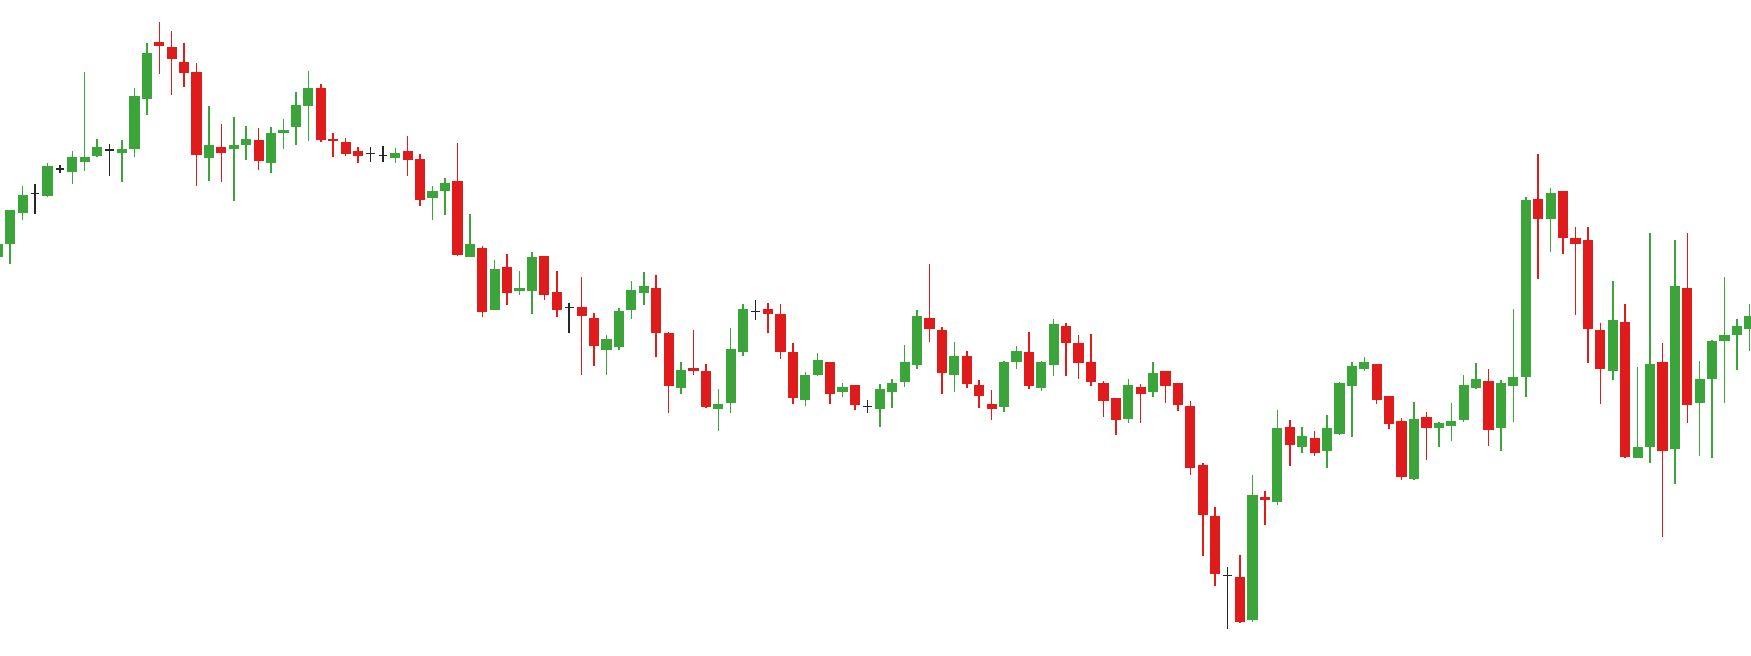buy: (1319, 393, 1418, 483)
sell: (736, 262, 935, 383)
